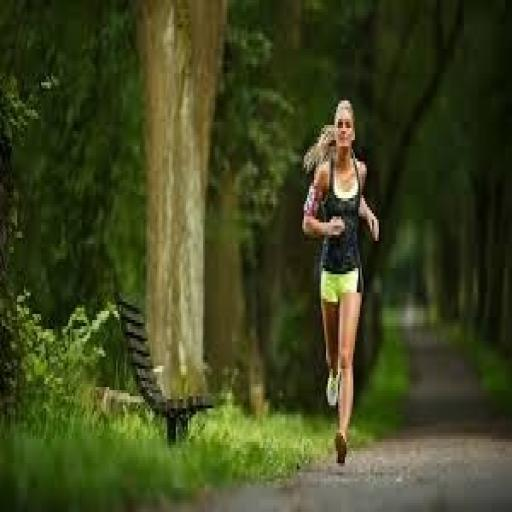running: (300, 94, 382, 470)
